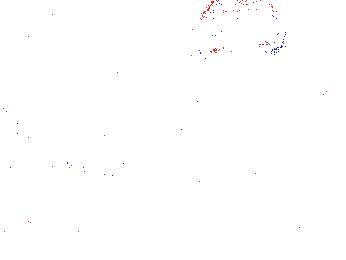moon jellyfish: (19, 41, 127, 111), (198, 1, 284, 55), (92, 18, 178, 55)
